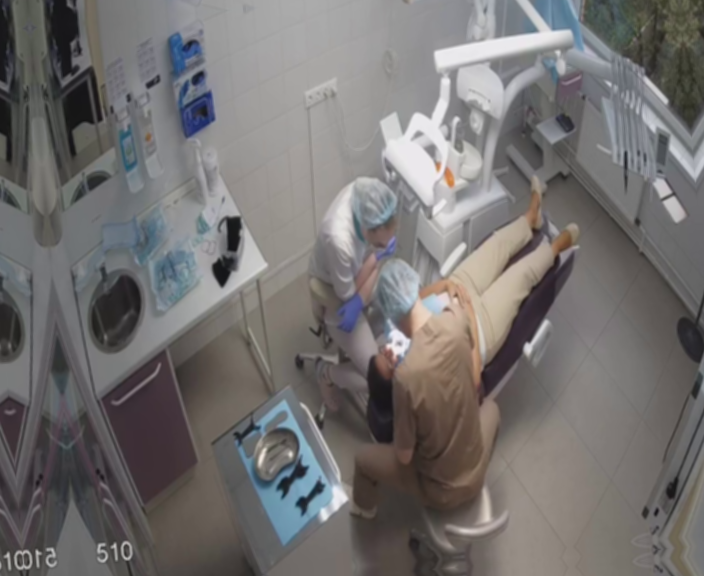Patient: (347, 170, 595, 442)
